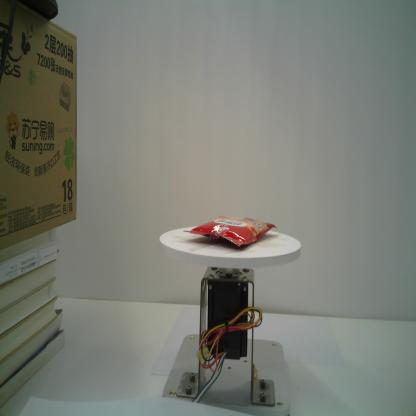Instant Drink: (182, 215, 279, 248)
